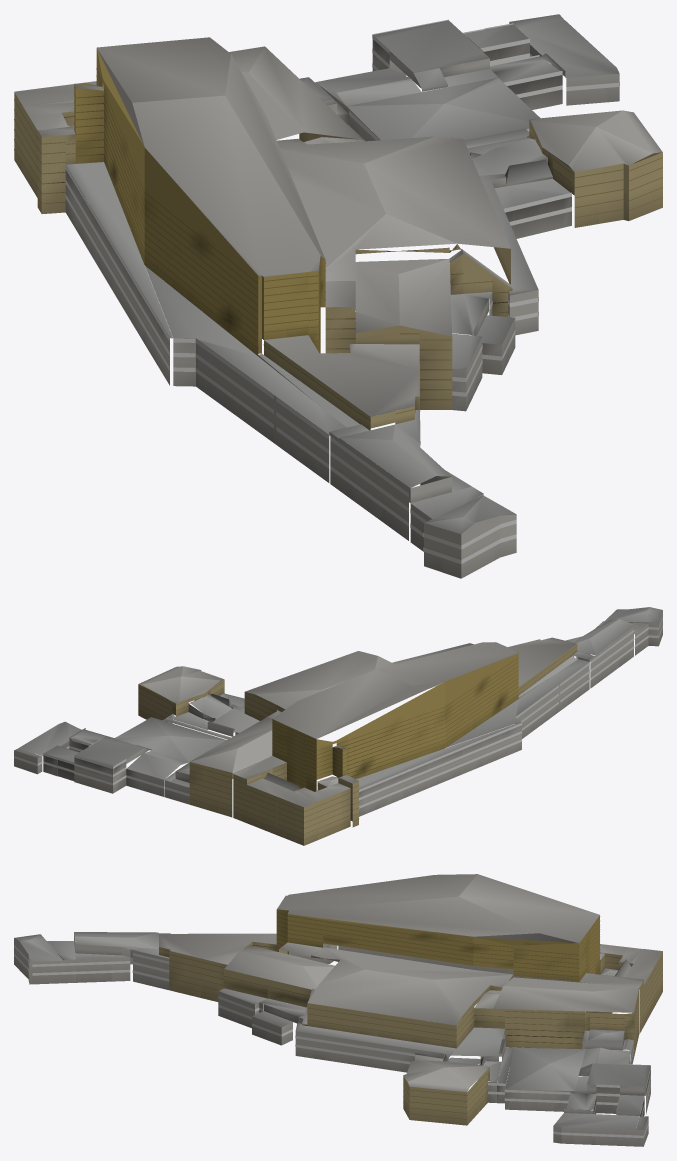
File: staatsbibliothek.glb
3 renders of one model, top to bottom at view 1: azimuth 30°, elevation 25°; view 2: azimuth 150°, elevation 25°; view 3: azimuth 270°, elevation 25°, orthographic. The views are drawn at different scales.
Visible parts, largest first — view 1: lack, glas; view 2: lack, glas; view 3: lack, glas.
Part boxes in pixels (box(x1,y1,x2,y2)): lack: box(14, 14, 662, 578); glas: box(65, 19, 619, 563); lack: box(14, 607, 662, 845); glas: box(14, 617, 662, 808); lack: box(14, 874, 662, 1146); glas: box(14, 945, 650, 1138).
Bounding box in the file's own units: 176 × 46.7 × 256.
